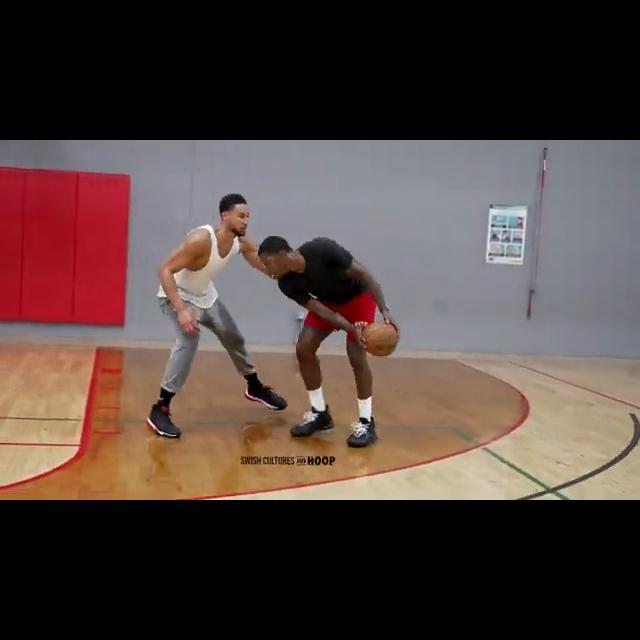basketball: (363, 322, 398, 358)
person: (145, 192, 287, 439), (257, 236, 401, 448)
